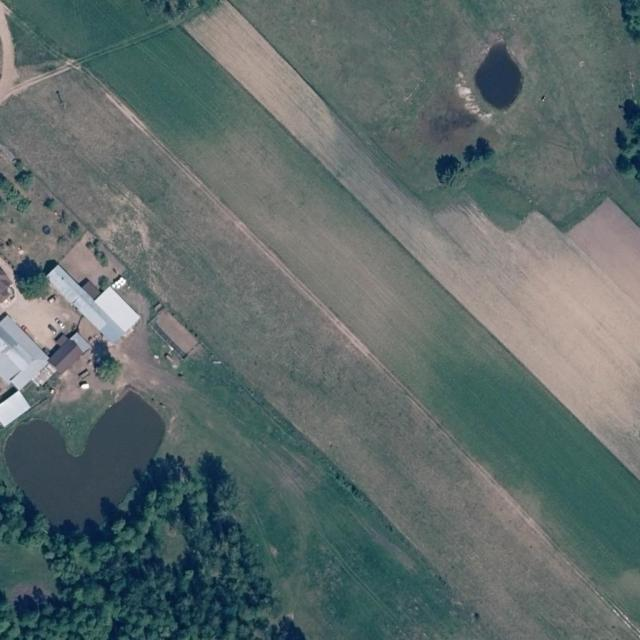building: (44, 264, 125, 347), (94, 285, 142, 333)
wetland: (0, 385, 185, 541)
